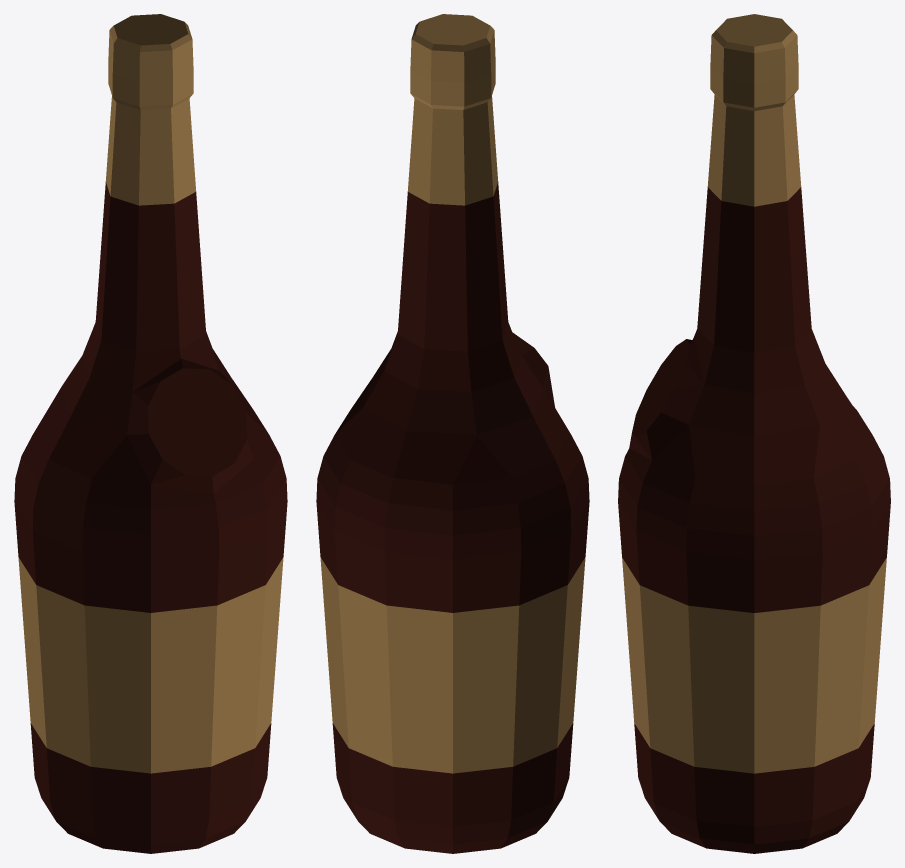
The model's file is Wine 28.fbx.
3 renders of one model, left to right at view 1: azimuth 30°, elevation 25°; view 2: azimuth 150°, elevation 25°; view 3: azimuth 270°, elevation 25°, orthographic.
Visible parts, largest first — view 1: Node 0; view 2: Node 0; view 3: Node 0.
Boxes of the visible parts, box(x1,y1,x2,y2) form: Node 0: box(14, 14, 287, 853); Node 0: box(316, 14, 589, 853); Node 0: box(618, 14, 890, 853).
Size of the model in its own units: 0.089 by 0.2819 by 0.089.
